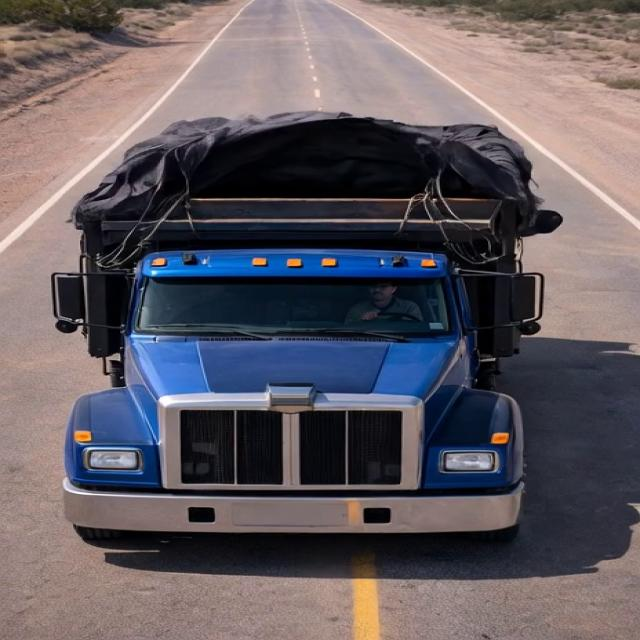trailer: (67, 114, 543, 244)
truck: (40, 83, 552, 541)
